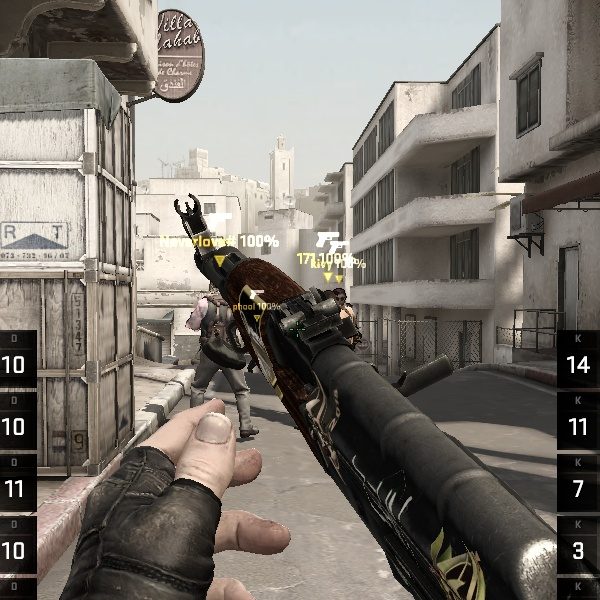t_body: (186, 282, 254, 437)
t_head: (331, 287, 348, 308)
